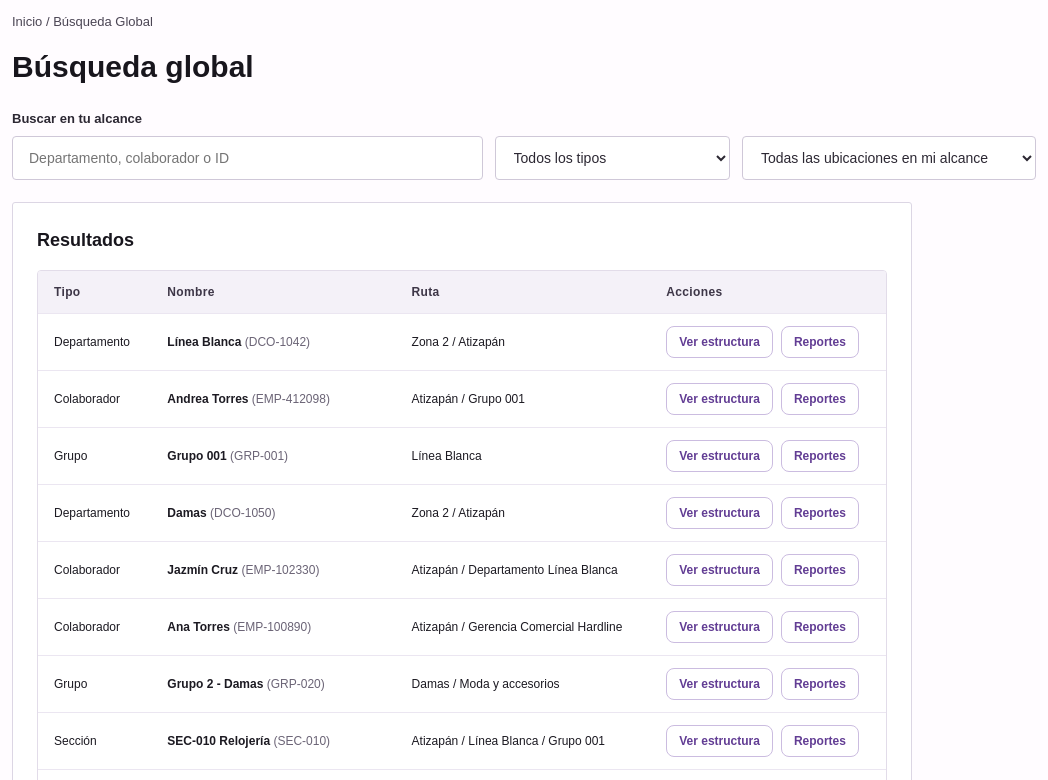
Test: Feature 1 — Autenticación SSO, Cierre de Sesión, Home y Buscador Global › CU-HOM-003: busca departamentos y colaboradores dentro del alcance y valida criterios inválidos
Expected: the text "Línea Blanca" is shown, [167,335,241,349]
Type "EMP-412098" into the search field labelled "Buscar en tu alcance" at (247,158), box [12,136,483,180]
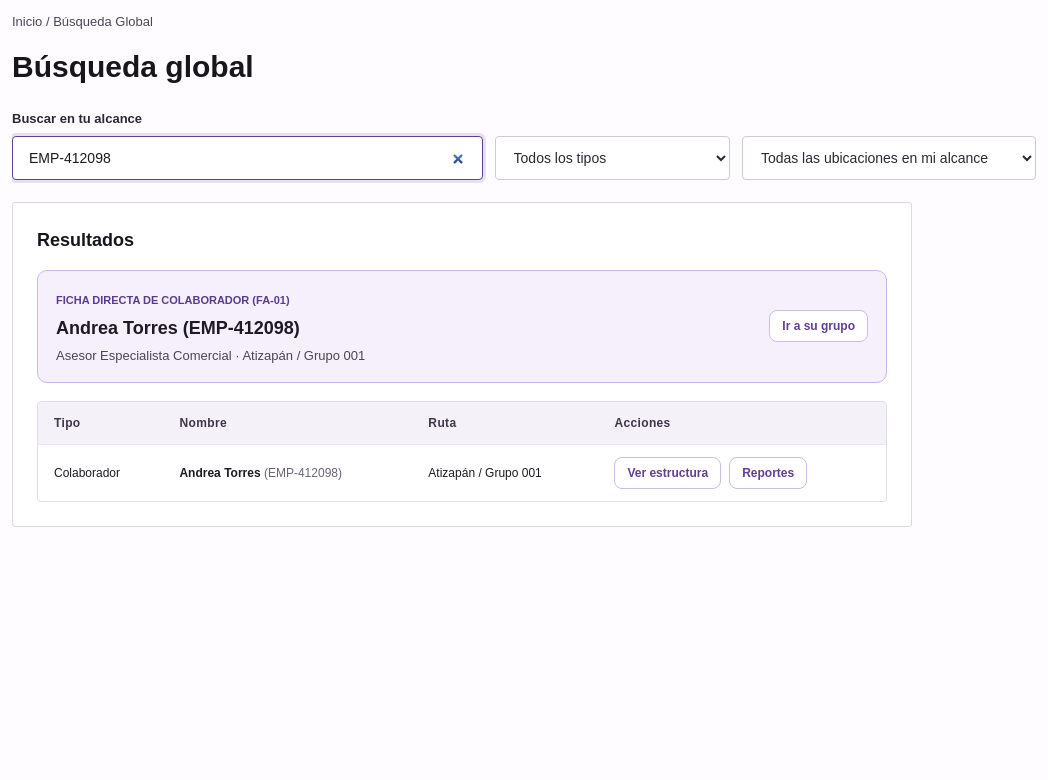
Now the text "Ficha directa de colaborador (FA-01)" is shown, box [56,294,290,306]
Replace the text in the search field labelled "Buscar en tu alcance" with "<script>" at (247,158), box [12,136,483,180]
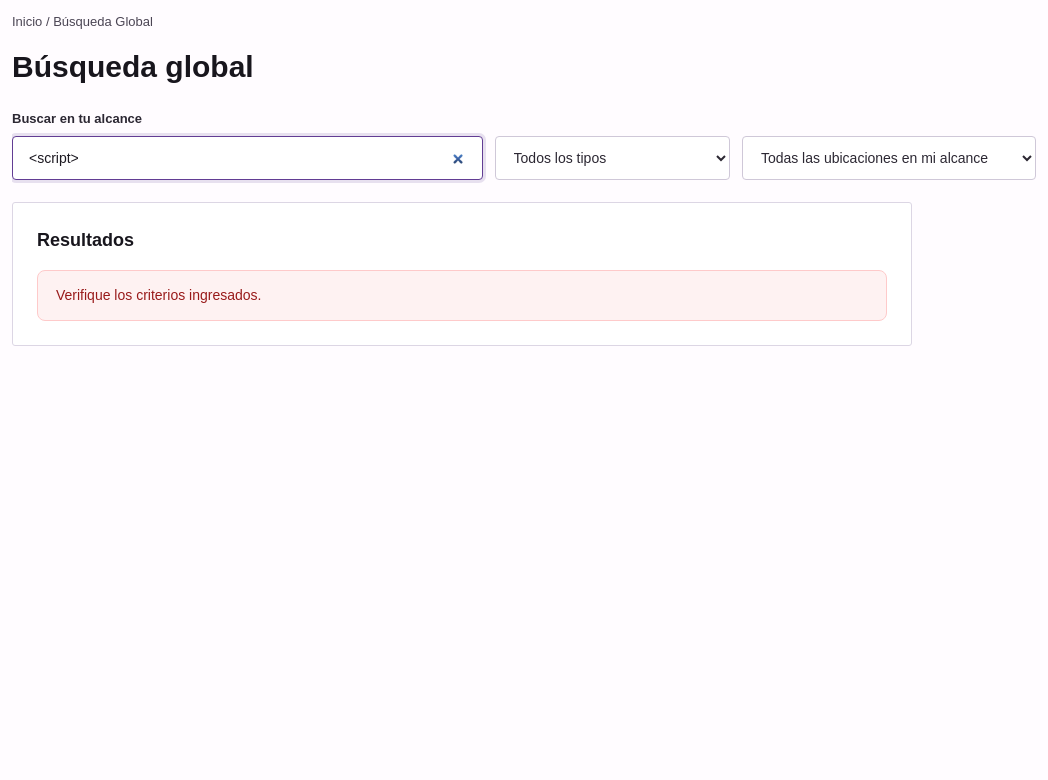
Now the text "Verifique los criterios ingresados." is shown, box [37,270,887,321]
